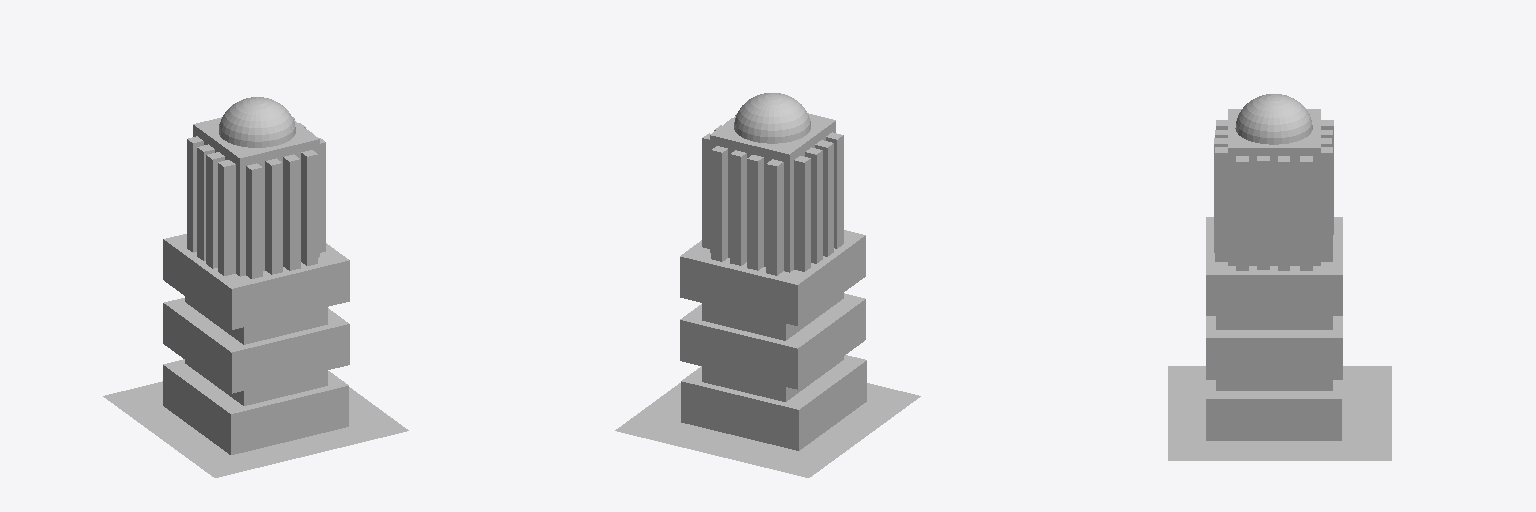
Rendered from edificio.obj.
3 views of the same model, side by side, from view 1: azimuth 30°, elevation 25°; view 2: azimuth 150°, elevation 25°; view 3: azimuth 270°, elevation 25° (orthographic).
Visible parts, largest first — view 1: Cube.002_Cube.003, Cube.000_Cube.007, Cube.001_Cube.005, Plane, Cube.003_Cube.009, Cube.004_Cube.008, Sphere, Cube.005_Cube.010, Cube.011_Cube.016, Cube.012_Cube.017, Cube.010_Cube.015, Cube.013_Cube.018 (+3 smaller); view 2: Cube.002_Cube.003, Cube.000_Cube.007, Cube.001_Cube.005, Plane, Cube.003_Cube.009, Cube.004_Cube.008, Sphere, Cube.008_Cube.013, Cube.013_Cube.018, Cube.012_Cube.017, Cube.010_Cube.015, Cube.011_Cube.016 (+3 smaller); view 3: Plane, Cube.001_Cube.005, Cube.000_Cube.007, Cube.002_Cube.003, Cube.003_Cube.009, Sphere, Cube.004_Cube.008, Cube.010_Cube.015, Cube.005_Cube.010, Cube.008_Cube.013, Cube.006_Cube.011, Cube.007_Cube.012.
Part boxes in pixels (left/top/right/bottom): Cube.002_Cube.003: left=163, top=359, right=348, bottom=454; Cube.000_Cube.007: left=163, top=298, right=349, bottom=393; Cube.001_Cube.005: left=163, top=234, right=349, bottom=329; Plane: left=103, top=381, right=408, bottom=477; Cube.003_Cube.009: left=193, top=117, right=319, bottom=276; Cube.004_Cube.008: left=185, top=297, right=327, bottom=405; Sphere: left=219, top=97, right=295, bottom=147; Cube.005_Cube.010: left=218, top=138, right=325, bottom=275; Cube.011_Cube.016: left=283, top=154, right=300, bottom=270; Cube.012_Cube.017: left=265, top=158, right=282, bottom=274; Cube.010_Cube.015: left=301, top=150, right=317, bottom=265; Cube.013_Cube.018: left=246, top=163, right=262, bottom=278; Cube.002_Cube.003: left=681, top=355, right=866, bottom=450; Cube.000_Cube.007: left=680, top=293, right=865, bottom=389; Cube.001_Cube.005: left=680, top=230, right=865, bottom=325; Plane: left=615, top=383, right=920, bottom=477; Cube.003_Cube.009: left=710, top=113, right=835, bottom=272; Cube.004_Cube.008: left=702, top=293, right=843, bottom=401; Sphere: left=734, top=93, right=810, bottom=143; Cube.008_Cube.013: left=702, top=133, right=810, bottom=271; Cube.013_Cube.018: left=766, top=159, right=783, bottom=275; Cube.012_Cube.017: left=747, top=155, right=763, bottom=270; Cube.010_Cube.015: left=711, top=146, right=727, bottom=261; Cube.011_Cube.016: left=730, top=150, right=746, bottom=265; Plane: left=1168, top=366, right=1391, bottom=460; Cube.001_Cube.005: left=1206, top=217, right=1342, bottom=315; Cube.000_Cube.007: left=1206, top=316, right=1342, bottom=379; Cube.002_Cube.003: left=1206, top=380, right=1341, bottom=440; Cube.003_Cube.009: left=1228, top=109, right=1320, bottom=265; Sphere: left=1235, top=94, right=1312, bottom=144; Cube.004_Cube.008: left=1216, top=316, right=1332, bottom=390; Cube.010_Cube.015: left=1215, top=147, right=1332, bottom=261; Cube.005_Cube.010: left=1236, top=156, right=1248, bottom=270; Cube.008_Cube.013: left=1300, top=156, right=1312, bottom=270; Cube.006_Cube.011: left=1257, top=156, right=1269, bottom=269; Cube.007_Cube.012: left=1278, top=156, right=1289, bottom=270.
Bounding box in the file's own units: 9.81 × 15.17 × 9.81.